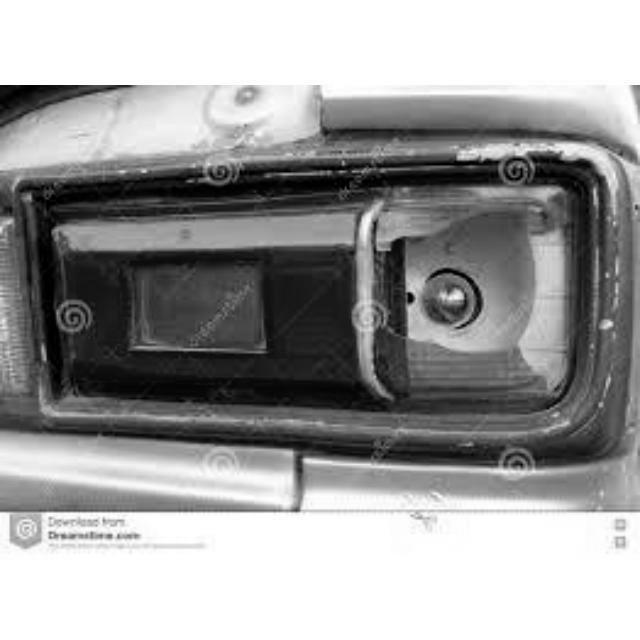Taillight-Damage: (343, 162, 608, 432)
